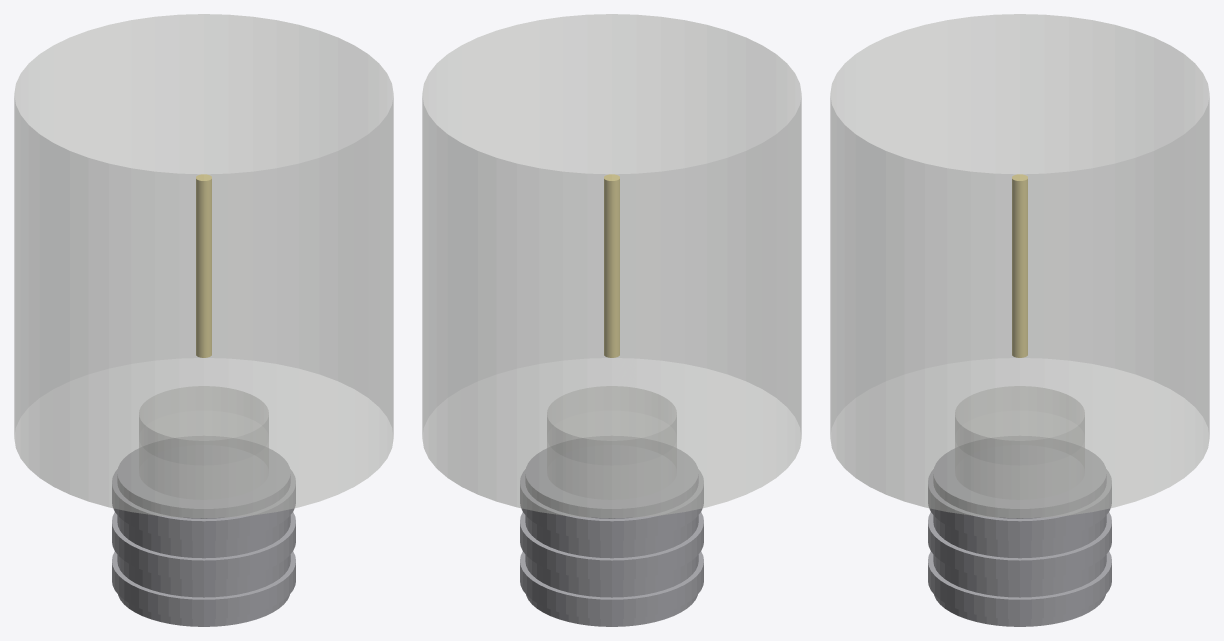
The model's file is bulb.glb.
3 views of the same model, side by side, from view 1: azimuth 30°, elevation 25°; view 2: azimuth 150°, elevation 25°; view 3: azimuth 270°, elevation 25° (orthographic).
Parts seen in each view (by area): view 1: bulb-globe, bulb-base, bulb-neck, bulb-ring-0, bulb-ring-1, bulb-ring-2, bulb-filament; view 2: bulb-globe, bulb-base, bulb-neck, bulb-ring-0, bulb-ring-1, bulb-ring-2, bulb-filament; view 3: bulb-globe, bulb-base, bulb-neck, bulb-ring-0, bulb-ring-1, bulb-ring-2, bulb-filament.
Part boxes in pixels (left/top/right/bottom): bulb-globe: left=14, top=14, right=393, bottom=518; bulb-base: left=117, top=436, right=290, bottom=626; bulb-neck: left=139, top=386, right=268, bottom=470; bulb-ring-0: left=112, top=551, right=295, bottom=619; bulb-ring-1: left=112, top=512, right=295, bottom=579; bulb-ring-2: left=112, top=469, right=295, bottom=540; bulb-filament: left=196, top=174, right=211, bottom=357; bulb-globe: left=422, top=14, right=801, bottom=518; bulb-base: left=525, top=436, right=698, bottom=626; bulb-neck: left=547, top=386, right=676, bottom=470; bulb-ring-0: left=520, top=551, right=703, bottom=619; bulb-ring-1: left=520, top=512, right=703, bottom=579; bulb-ring-2: left=520, top=469, right=703, bottom=540; bulb-filament: left=604, top=174, right=619, bottom=357; bulb-globe: left=830, top=14, right=1209, bottom=518; bulb-base: left=933, top=436, right=1106, bottom=626; bulb-neck: left=955, top=386, right=1084, bottom=470; bulb-ring-0: left=928, top=551, right=1111, bottom=619; bulb-ring-1: left=928, top=512, right=1111, bottom=579; bulb-ring-2: left=928, top=469, right=1111, bottom=540; bulb-filament: left=1012, top=174, right=1027, bottom=357.
Bounding box in the file's own units: 0.035 × 0.0525 × 0.035.
